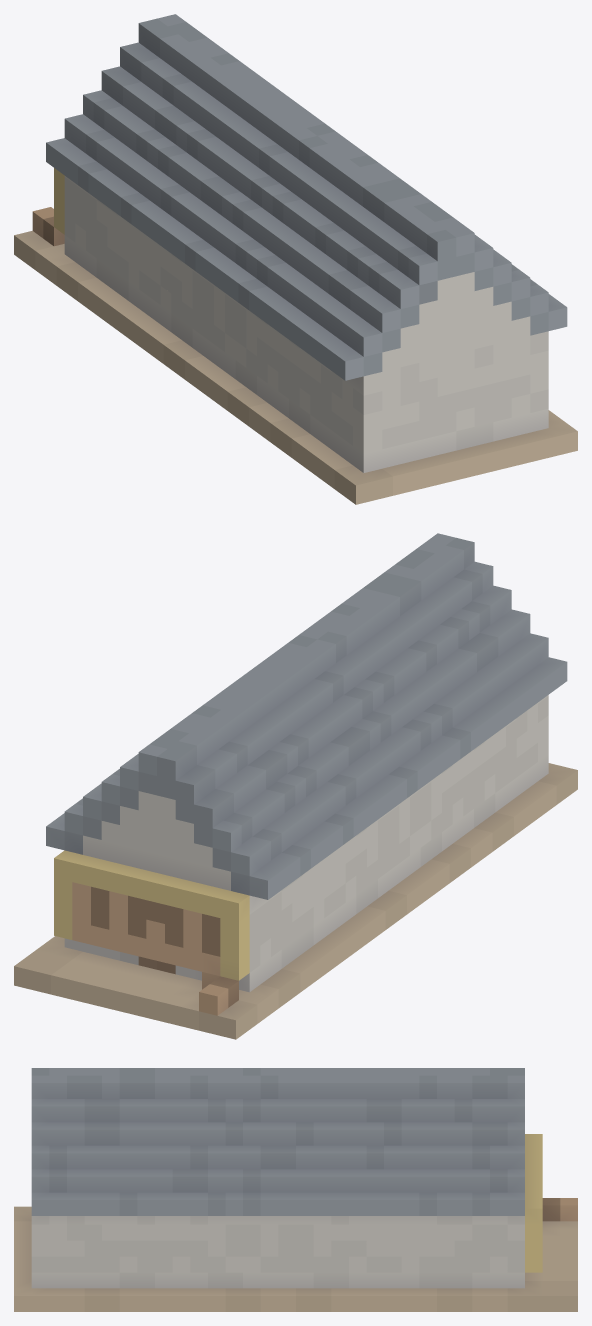
The model's file is copper_mine.lite.glb.
3 renders of one model, top to bottom at view 1: azimuth 30°, elevation 25°; view 2: azimuth 150°, elevation 25°; view 3: azimuth 270°, elevation 25°, orthographic. The views are drawn at different scales.
Parts seen in each view (by area): view 1: copper_mine; view 2: copper_mine; view 3: copper_mine.
Boxes of the visible parts, x1,y1,x2,y2 form: copper_mine: (14, 14, 577, 504); copper_mine: (14, 533, 577, 1039); copper_mine: (14, 1068, 577, 1311).
Bounding box in the file's own units: 3 × 3 × 8.
